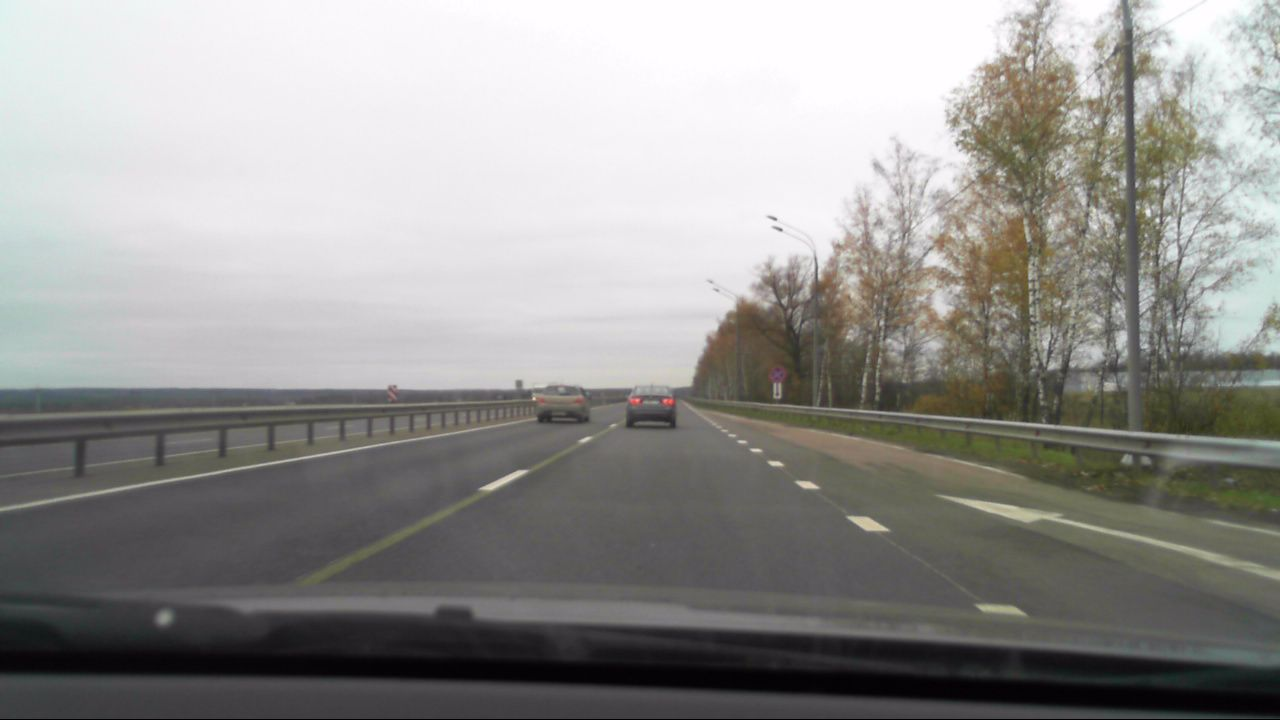No Parking: (766, 362, 787, 382)
